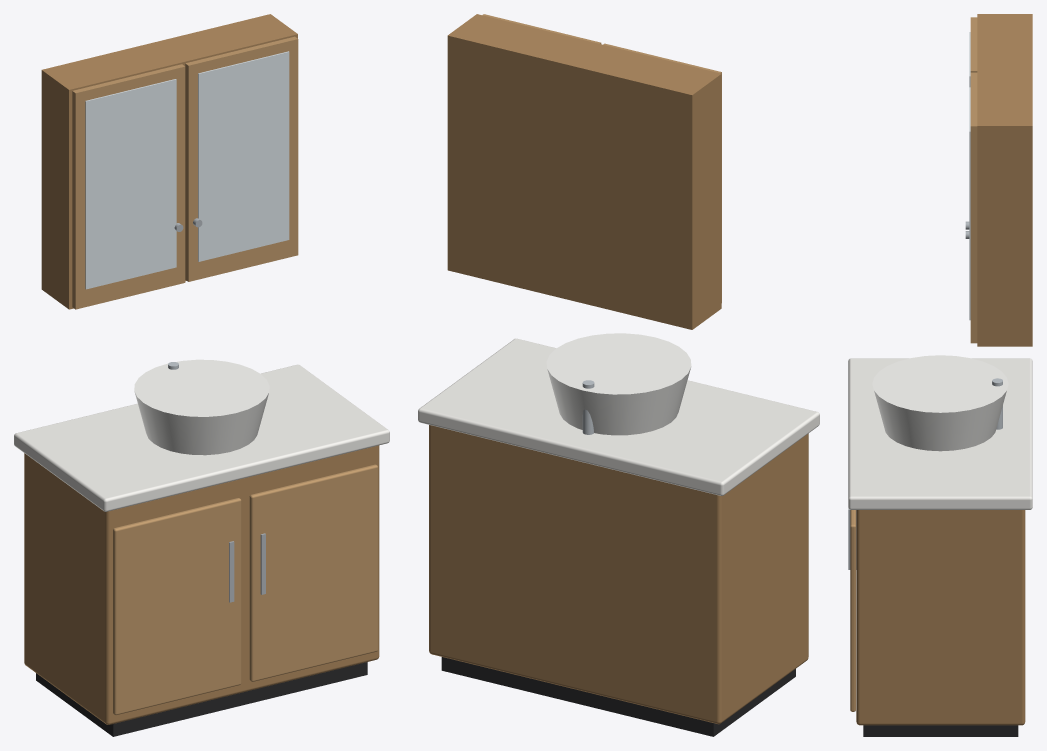
The model's file is basin.glb.
The picture shows the model from 3 angles, left to right: view 1: azimuth 30°, elevation 25°; view 2: azimuth 150°, elevation 25°; view 3: azimuth 270°, elevation 25°; orthographic projection. The views are drawn at different scales.
Parts seen in each view (by area): view 1: material-1-door, material-0-frame, material-7-mirror, material-3-top, material-4-body, material-6-base, material-2-handle; view 2: material-0-frame, material-3-top, material-4-body, material-6-base, material-1-door; view 3: material-0-frame, material-3-top, material-4-body, material-1-door, material-6-base, material-7-mirror, material-2-handle.
Boxes of the visible parts, x1,y1,x2,y2 form: material-1-door: (72, 36, 377, 715); material-0-frame: (24, 14, 379, 724); material-7-mirror: (85, 51, 289, 289); material-3-top: (14, 364, 389, 511); material-4-body: (134, 359, 269, 455); material-6-base: (36, 662, 367, 736); material-2-handle: (174, 218, 265, 602); material-0-frame: (429, 14, 808, 724); material-3-top: (418, 338, 819, 495); material-4-body: (546, 333, 691, 435); material-6-base: (441, 657, 795, 736); material-1-door: (482, 14, 721, 302); material-0-frame: (856, 14, 1032, 725); material-3-top: (848, 358, 1032, 509); material-4-body: (872, 355, 1008, 451); material-1-door: (850, 17, 977, 711); material-6-base: (863, 725, 1018, 736); material-7-mirror: (969, 32, 970, 320); material-2-handle: (848, 221, 969, 569).
Size of the model in its own units: 0.9 by 1.81 by 0.5.
